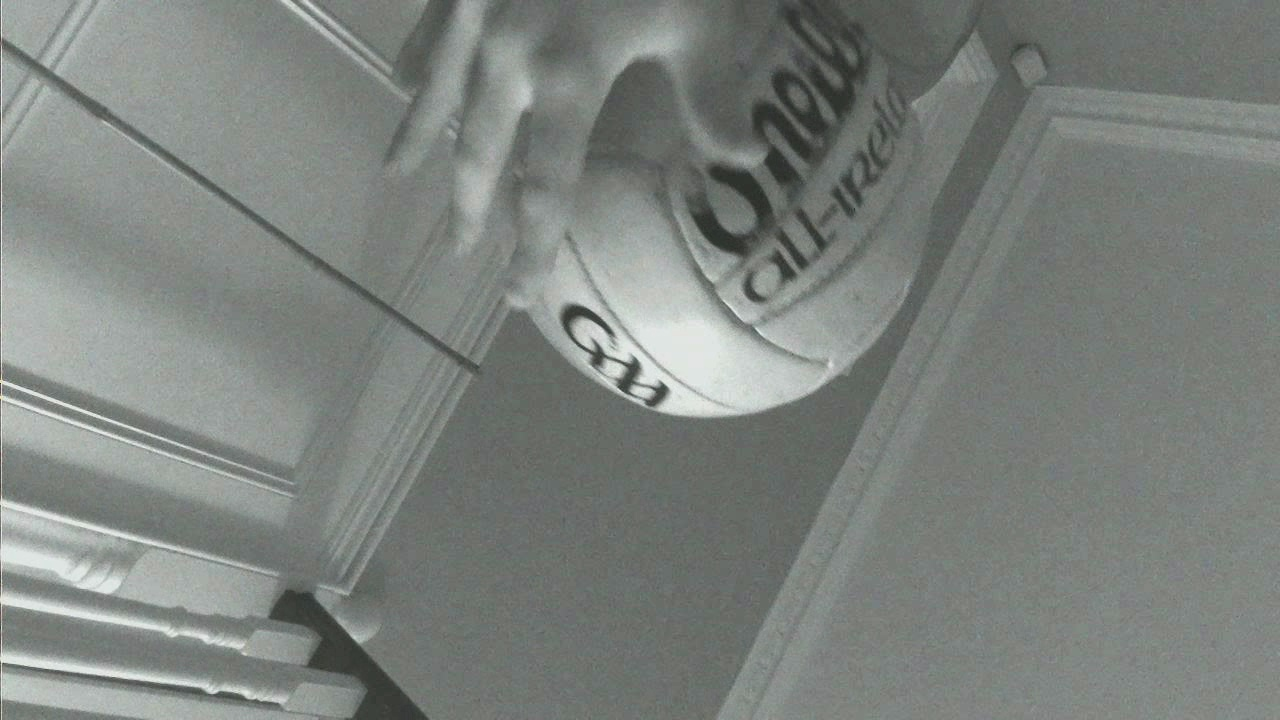Football-Spotter: (530, 0, 928, 416)
